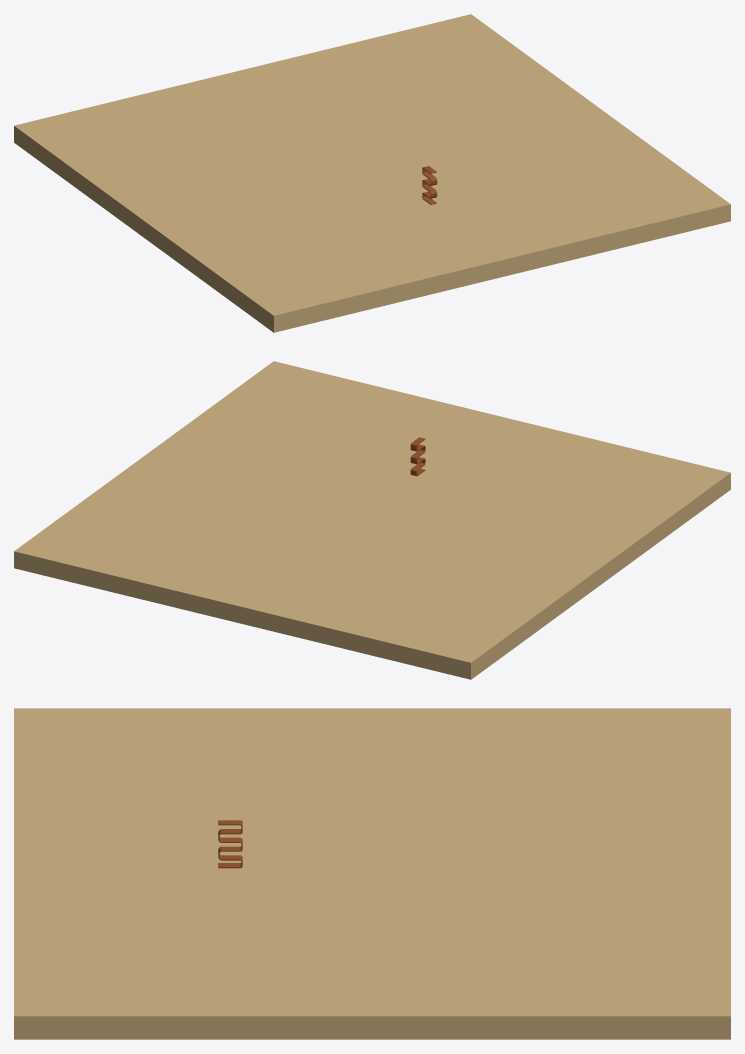
File: Bookshelf.obj
3 renders of one model, top to bottom at view 1: azimuth 30°, elevation 25°; view 2: azimuth 150°, elevation 25°; view 3: azimuth 270°, elevation 25°, orthographic. The views are drawn at different scales.
Parts seen in each view (by area): view 1: Mesh1 Component_5_1 Model; view 2: Mesh1 Component_5_1 Model; view 3: Mesh1 Component_5_1 Model, Mesh2 Model.
Boxes of the visible parts, x1,y1,x2,y2 form: Mesh1 Component_5_1 Model: [14, 14, 730, 332]; Mesh1 Component_5_1 Model: [14, 361, 730, 679]; Mesh1 Component_5_1 Model: [14, 708, 730, 1039]; Mesh2 Model: [218, 820, 242, 868].
Bounding box in the file's own units: 1184 × 121 × 1166.
